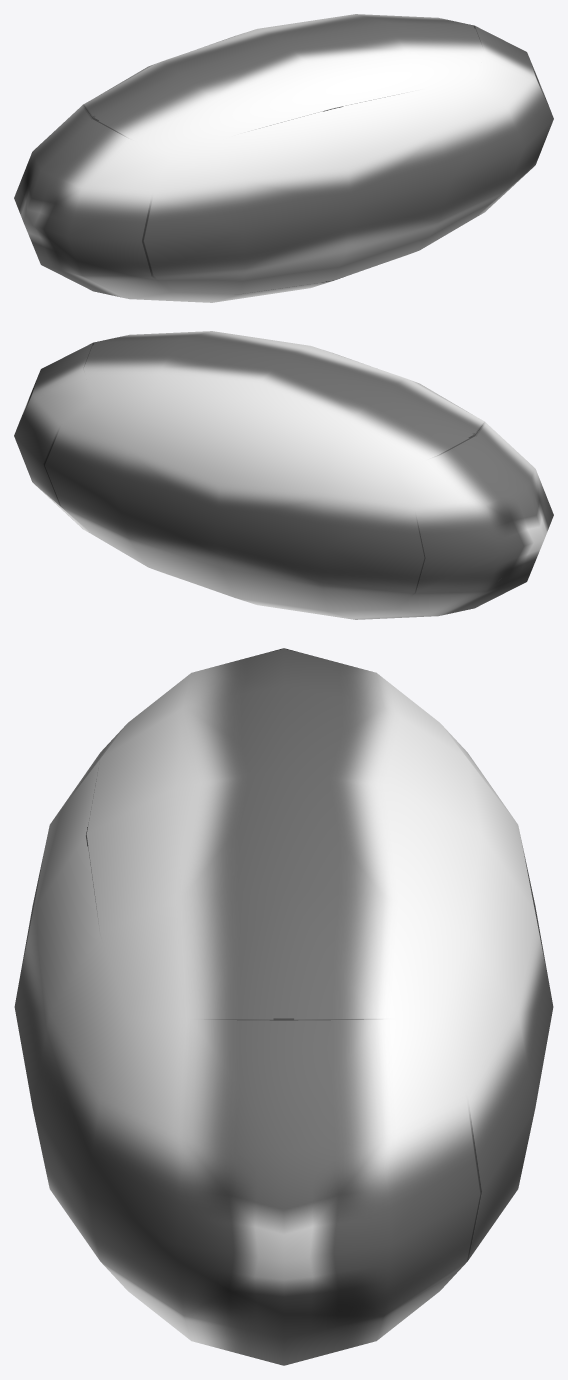
File: fase1.fbx
3 views of the same model, one above another, from view 1: azimuth 30°, elevation 25°; view 2: azimuth 150°, elevation 25°; view 3: azimuth 270°, elevation 25° (orthographic). The views are drawn at different scales.
Parts seen in each view (by area): view 1: bijimtahari; view 2: bijimtahari; view 3: bijimtahari.
Part boxes in pixels (<box>): bijimtahari: <box>14,14,553,302</box>; bijimtahari: <box>14,331,553,619</box>; bijimtahari: <box>14,648,553,1365</box>.
Bounding box in the file's own units: 42.08 × 18.18 × 18.83.
Materials: 1 (1 with a texture image).
